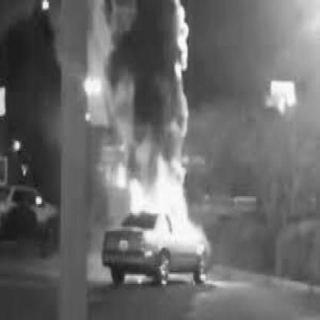Smoke: (109, 0, 203, 147)
